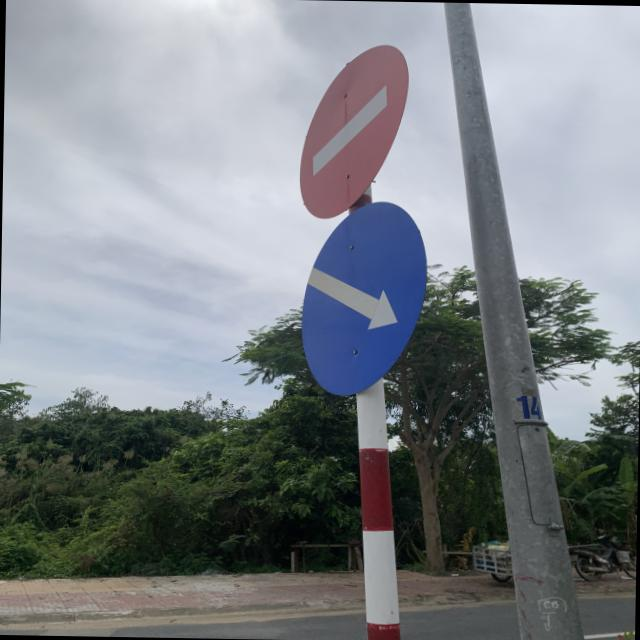Cam_Di_Nguoc_Chieu: (302, 42, 409, 216)
Chi_Huong_Di_Phai: (298, 200, 432, 400)
